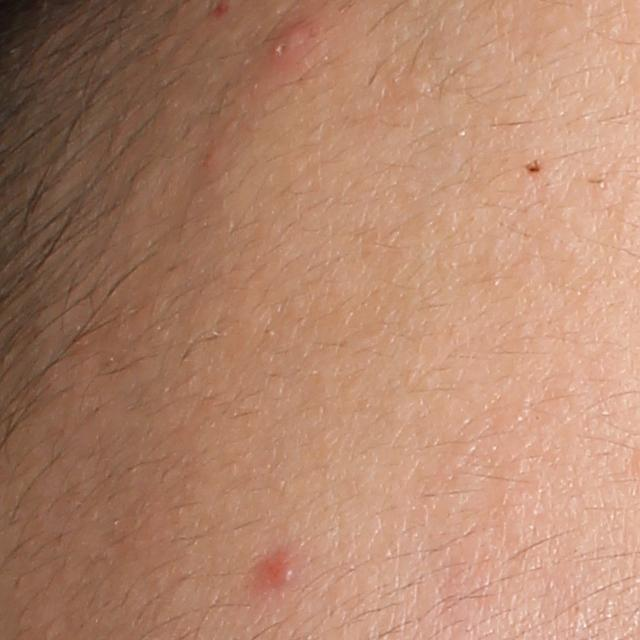papule: (264, 22, 313, 72), (252, 544, 297, 585)
